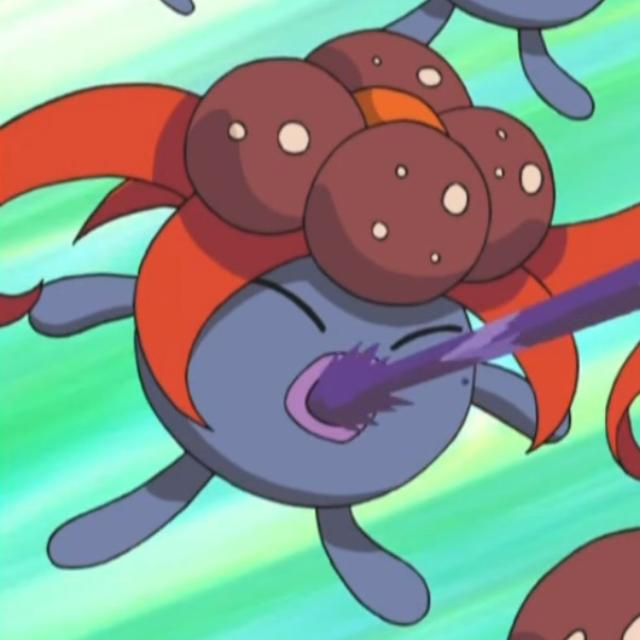Gloom: (116, 43, 586, 587)
